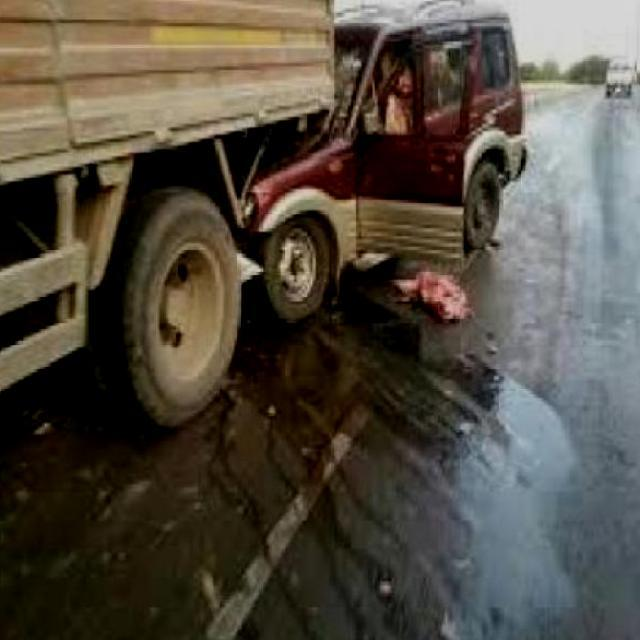accident: (67, 13, 452, 343)
